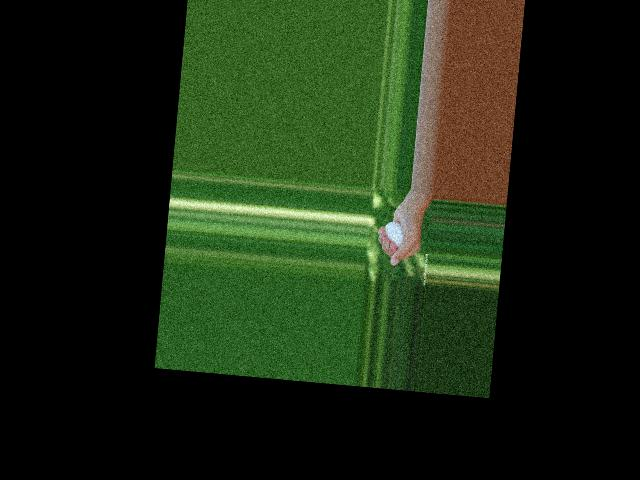egg: (383, 221, 404, 248)
